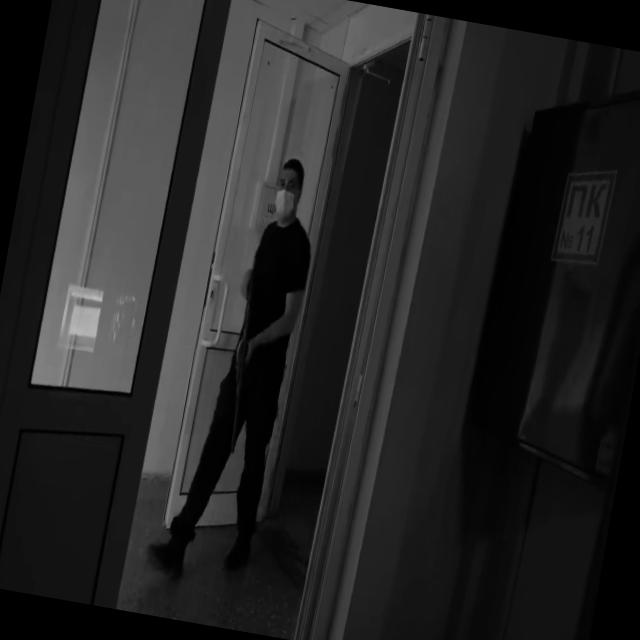gun: (217, 272, 266, 454)
person with a gun: (146, 146, 328, 592)
